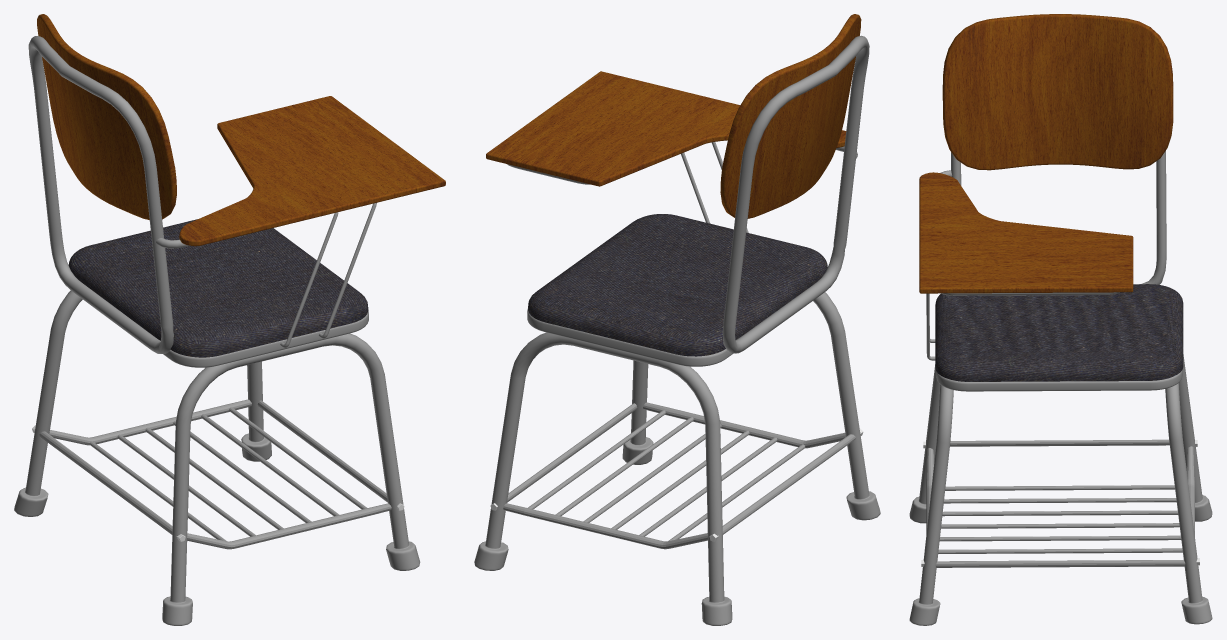
File: chair_table_class.glb
The picture shows the model from 3 angles, left to right: view 1: azimuth 30°, elevation 25°; view 2: azimuth 150°, elevation 25°; view 3: azimuth 270°, elevation 25°; orthographic projection. The views are drawn at different scales.
Visible parts, largest first — view 1: Object_5, Object_4, Object_2; view 2: Object_5, Object_4, Object_2; view 3: Object_4, Object_5, Object_2.
Boxes of the visible parts, bbox=[...] form: Object_5: bbox=[14, 36, 420, 625]; Object_4: bbox=[37, 14, 445, 246]; Object_2: bbox=[68, 219, 368, 357]; Object_5: bbox=[474, 35, 880, 625]; Object_4: bbox=[486, 14, 861, 218]; Object_2: bbox=[528, 214, 827, 356]; Object_4: bbox=[919, 14, 1173, 293]; Object_5: bbox=[909, 151, 1212, 625]; Object_2: bbox=[935, 284, 1183, 381].
Bounding box in the file's own units: 1.42 × 2.29 × 1.29.
Materials: 4 (3 with a texture image).
